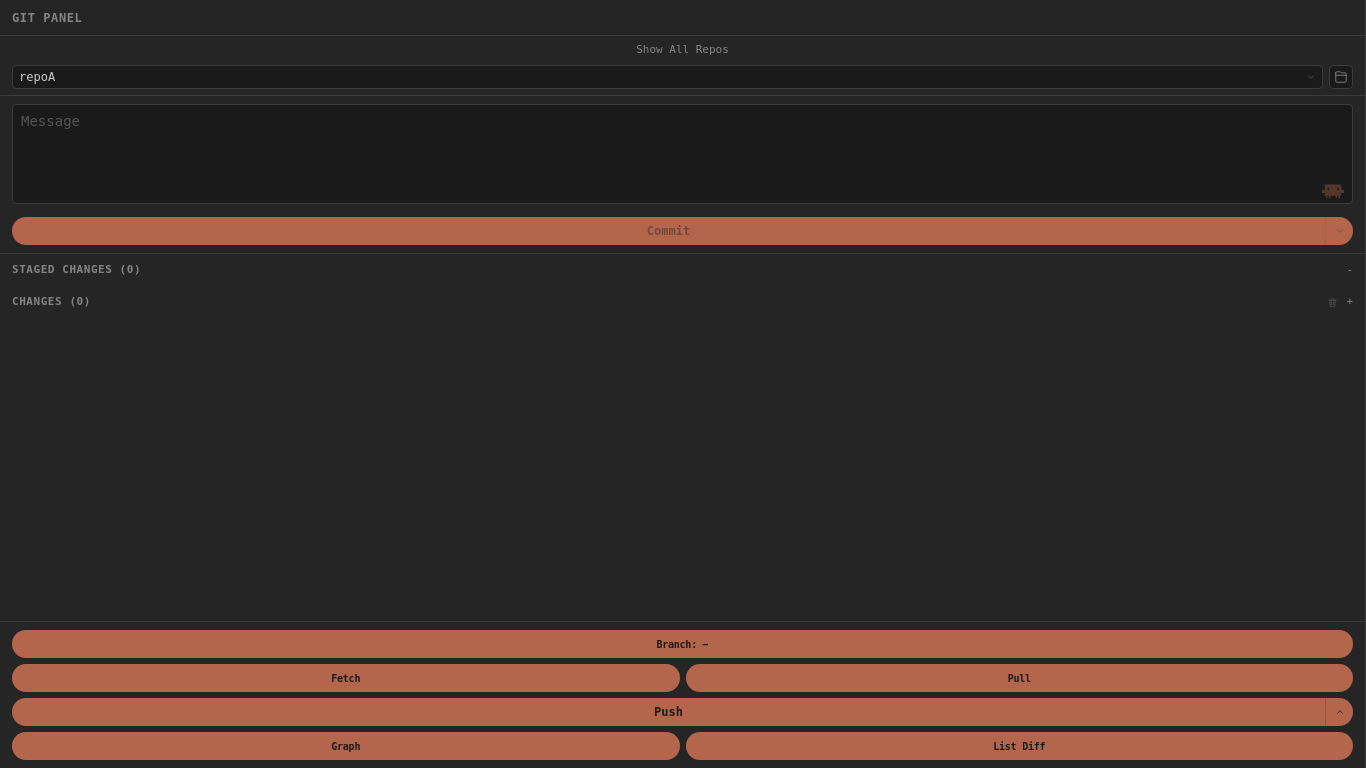
Test: GitPanel — repo dropdown › starring a repo sorts it to the top of the dropdown
Click the button with aria-label "Select repository": (37, 76) [12,64,1323,88]
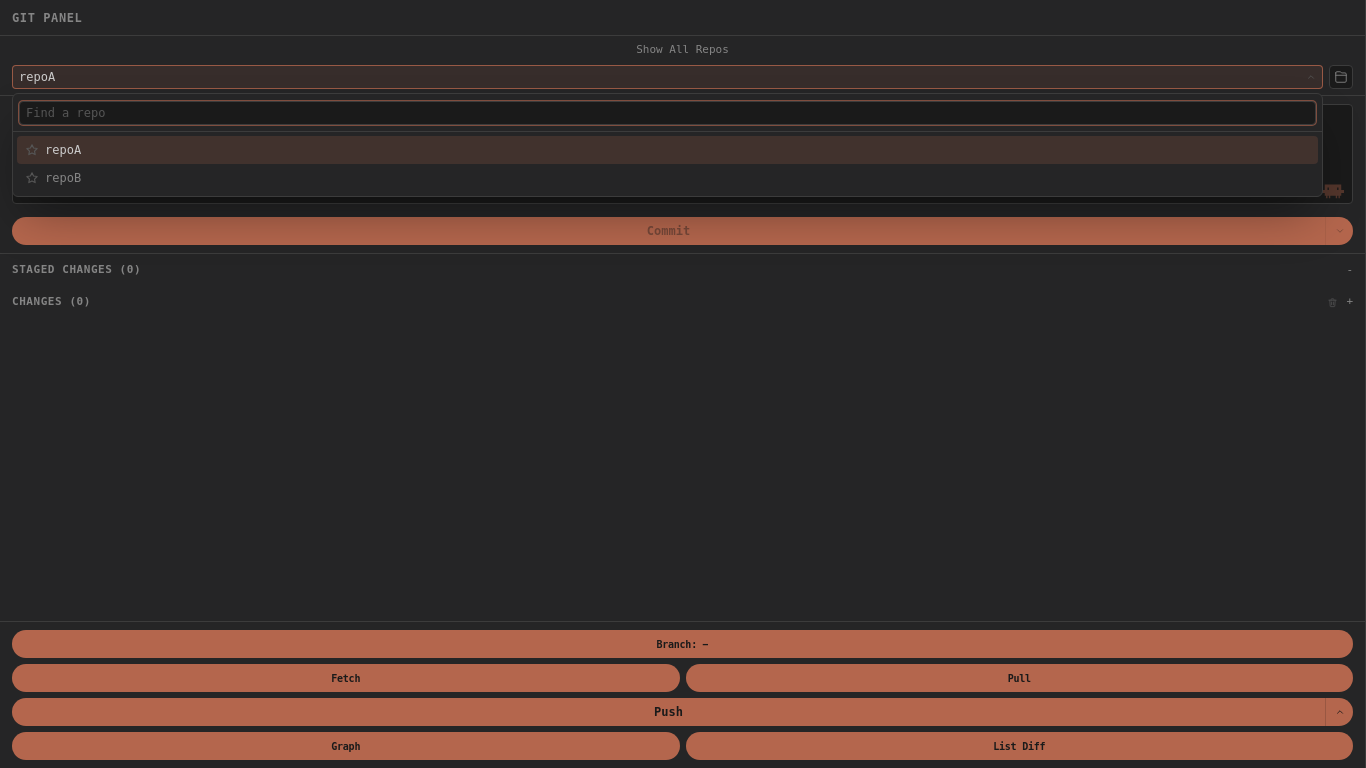
Click the button named "Favorite repoB": (32, 178) [25,170,39,184]
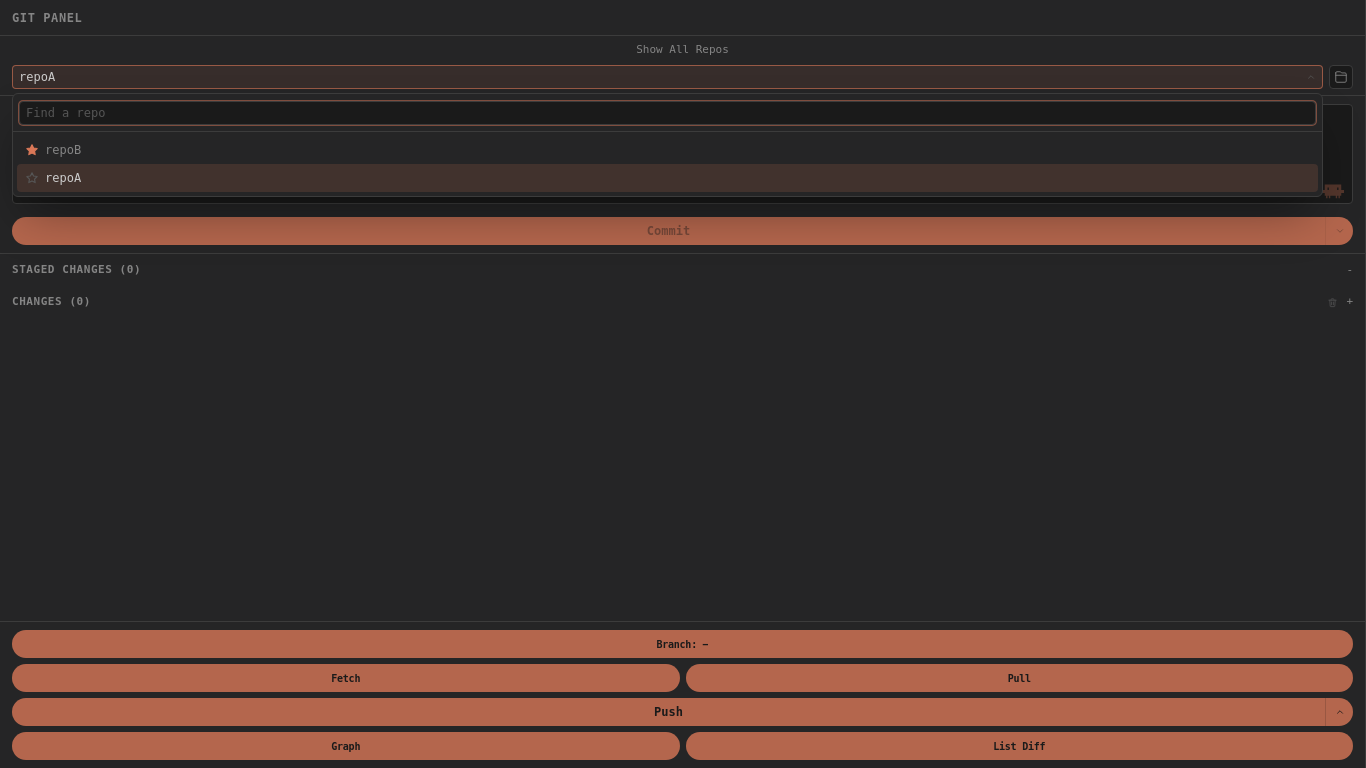
Result: the options read "repoB", "repoA", in this order at [25,142,81,156]; [17,164,1318,192]
